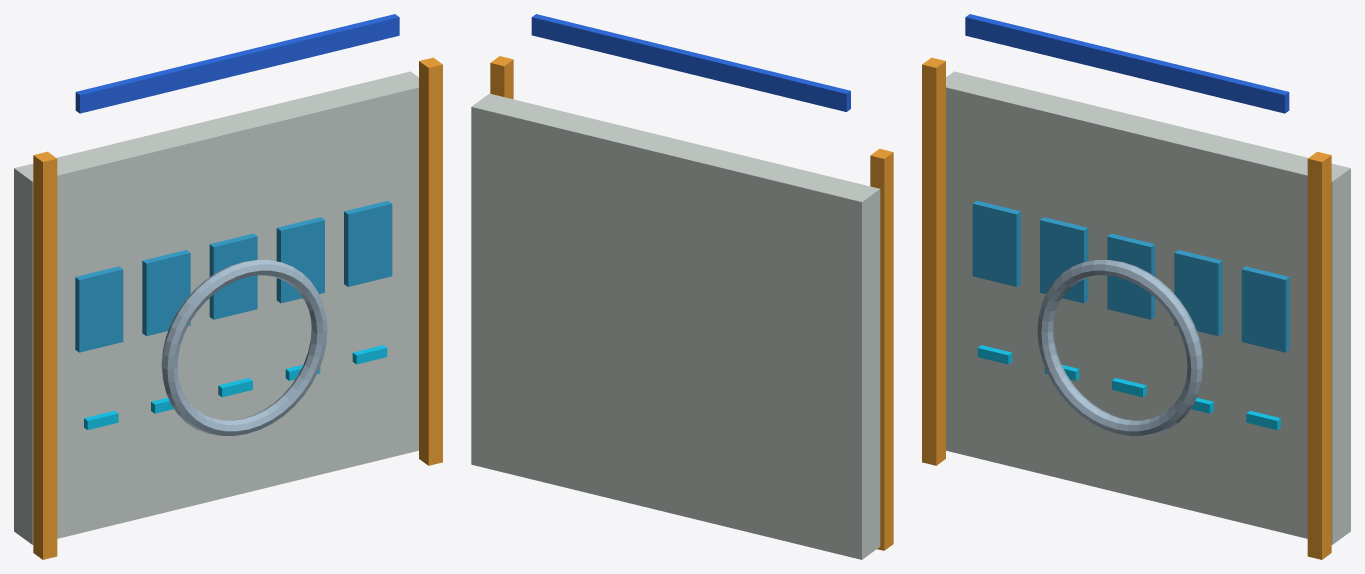
File: 06_L88_HabitatSectorD_Habitat.fbx
The picture shows the model from 3 angles, left to right: view 1: azimuth 30°, elevation 25°; view 2: azimuth 150°, elevation 25°; view 3: azimuth 330°, elevation 25°; orthographic projection.
Visible parts, largest first — view 1: L87_Habitat_Part_0000, L87_Habitat_Part_0001, L87_Habitat_Part_0002, L87_Habitat_Part_0004, L87_Habitat_Part_0005, L87_Habitat_Part_0003; view 2: L87_Habitat_Part_0000, L87_Habitat_Part_0005, L87_Habitat_Part_0001; view 3: L87_Habitat_Part_0000, L87_Habitat_Part_0001, L87_Habitat_Part_0002, L87_Habitat_Part_0004, L87_Habitat_Part_0005, L87_Habitat_Part_0003.
Part boxes in pixels (x1,y1,x2,y2): L87_Habitat_Part_0000: (14, 71, 418, 544); L87_Habitat_Part_0001: (33, 57, 442, 559); L87_Habitat_Part_0002: (75, 200, 392, 352); L87_Habitat_Part_0004: (161, 260, 327, 435); L87_Habitat_Part_0005: (75, 14, 399, 113); L87_Habitat_Part_0003: (84, 345, 387, 429); L87_Habitat_Part_0000: (471, 93, 880, 559); L87_Habitat_Part_0005: (531, 14, 850, 111); L87_Habitat_Part_0001: (490, 56, 893, 550); L87_Habitat_Part_0000: (946, 71, 1350, 544); L87_Habitat_Part_0001: (922, 57, 1331, 559); L87_Habitat_Part_0002: (972, 200, 1289, 352); L87_Habitat_Part_0004: (1037, 260, 1203, 435); L87_Habitat_Part_0005: (965, 14, 1289, 113); L87_Habitat_Part_0003: (977, 345, 1280, 429).
Bounding box in the file's own units: 363 × 392 × 57.
